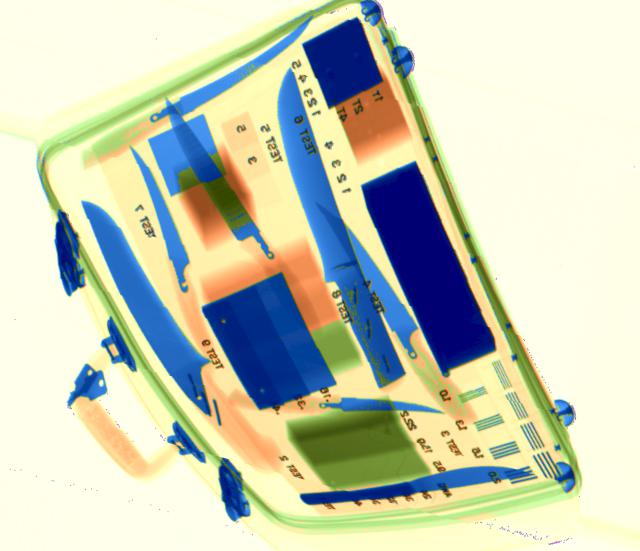Knife: (80, 200, 276, 463), (277, 67, 406, 392), (316, 202, 441, 390), (162, 96, 281, 271), (146, 15, 316, 125), (126, 143, 199, 308), (299, 465, 530, 506), (305, 394, 447, 415)
